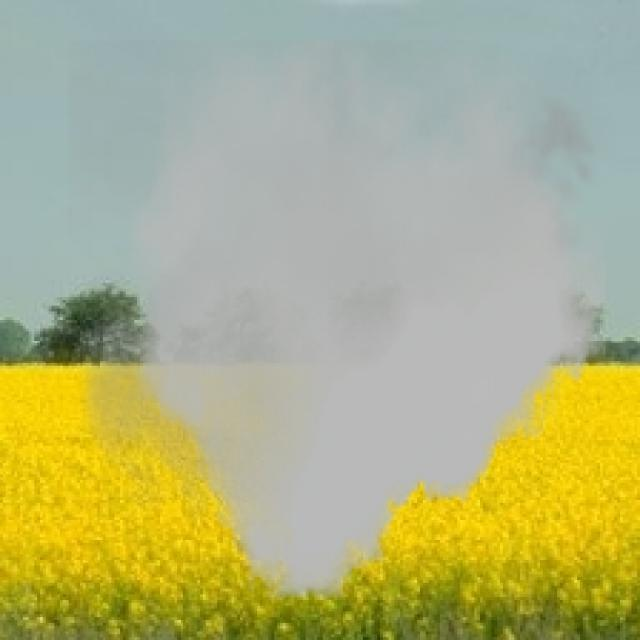smoke: (69, 40, 614, 600)
